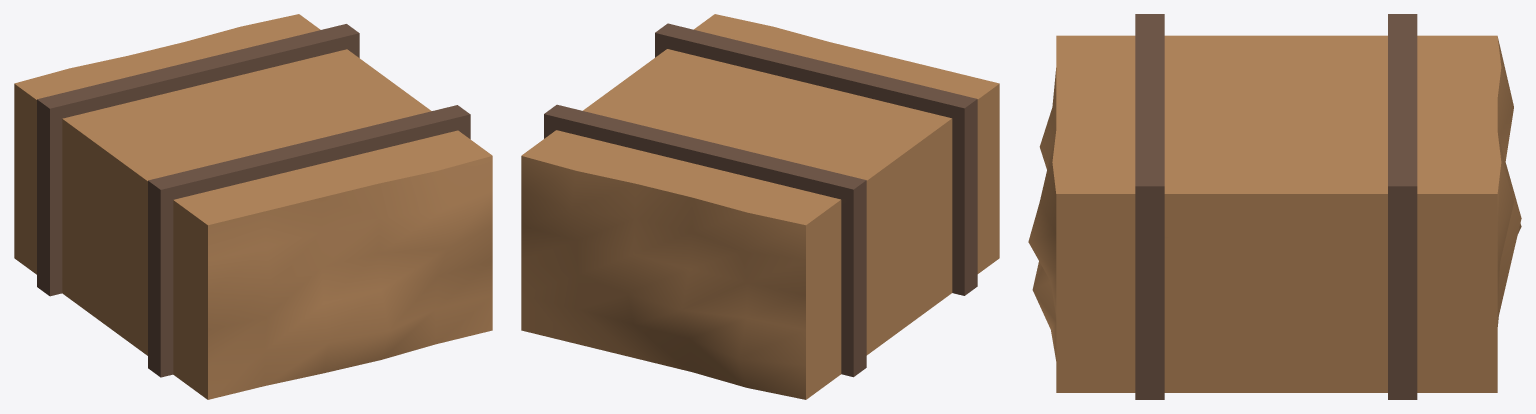
The model's file is FBX_Heno.fbx.
3 views of the same model, side by side, from view 1: azimuth 30°, elevation 25°; view 2: azimuth 150°, elevation 25°; view 3: azimuth 270°, elevation 25° (orthographic). The views are drawn at different scales.
Parts seen in each view (by area): view 1: pCube21; view 2: pCube21; view 3: pCube21.
Boxes of the visible parts, x1,y1,x2,y2 form: pCube21: (14, 14, 492, 399); pCube21: (521, 14, 999, 399); pCube21: (1028, 14, 1521, 399).
Bounding box in the file's own units: 31.49 × 18.23 × 38.12.
